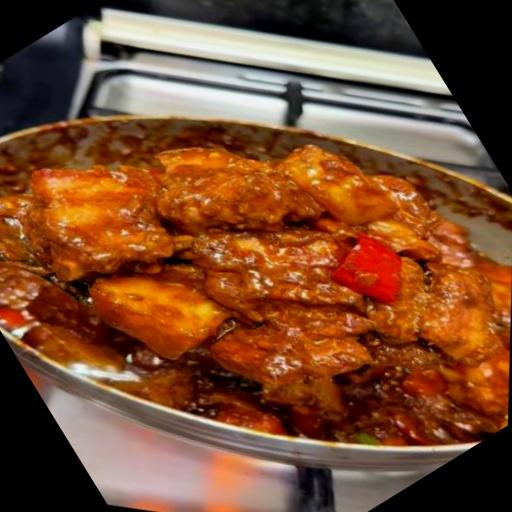pork caldereta: (0, 149, 511, 443)
